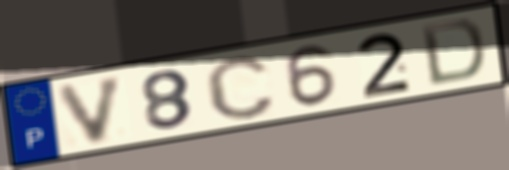2: (354, 30, 413, 100)
6: (282, 43, 340, 109)
8: (139, 68, 196, 132)
C: (202, 52, 278, 122)
D: (417, 17, 488, 88)
V: (53, 71, 129, 147)
